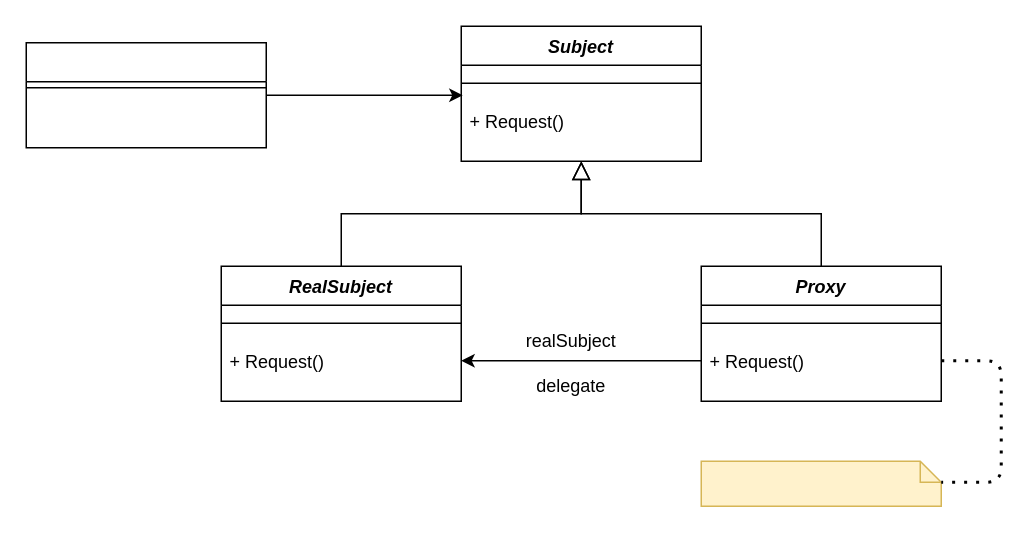
This 1031x533 diagram has some shape labels left out. Here are the shapes that lost their labels. From the top down, the centre of each, then its label:
[145,94]: Client
[820,483]: realSubject.Request()
